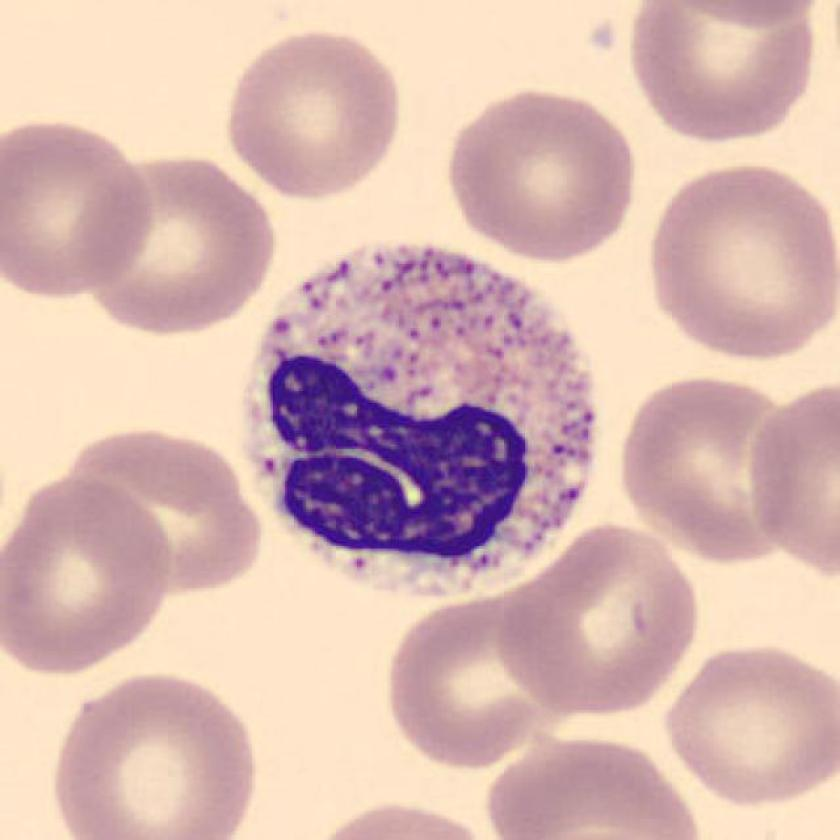neutrophil: (246, 242, 597, 597)
